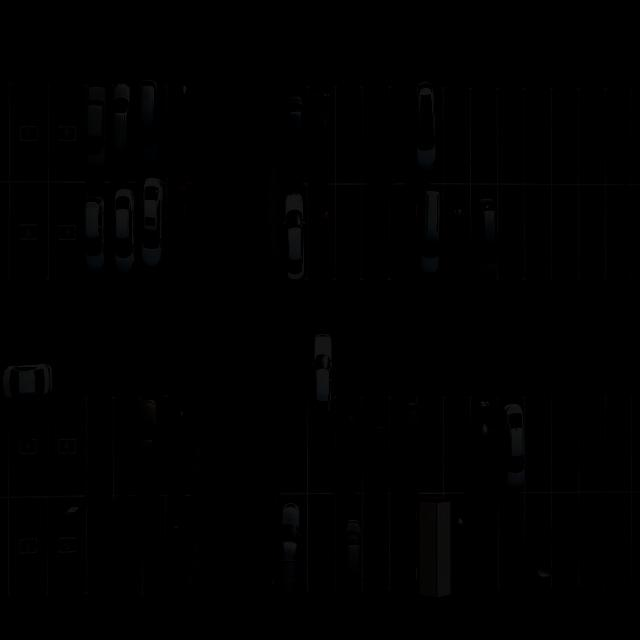empty: (46, 389, 90, 497), (6, 389, 48, 499), (110, 396, 156, 496), (5, 497, 48, 602), (48, 180, 88, 288), (491, 489, 531, 595), (8, 181, 48, 287), (7, 80, 47, 184), (304, 494, 342, 601), (545, 492, 584, 593), (412, 495, 449, 601), (48, 83, 86, 183), (571, 492, 608, 592), (603, 492, 639, 593), (357, 496, 392, 598), (81, 497, 116, 598), (603, 395, 638, 494), (572, 397, 607, 496), (437, 398, 473, 494), (548, 395, 583, 492), (385, 184, 419, 283), (523, 397, 558, 493), (524, 184, 557, 284), (137, 497, 169, 600), (606, 185, 638, 288), (334, 86, 367, 184), (495, 184, 527, 285), (334, 186, 366, 286), (549, 186, 581, 286), (574, 184, 606, 284), (386, 497, 419, 593), (605, 88, 637, 184), (576, 88, 608, 184), (415, 402, 447, 497), (359, 182, 390, 280), (549, 91, 581, 185), (525, 91, 556, 186), (439, 91, 470, 185), (494, 91, 525, 185), (470, 90, 500, 184), (391, 89, 417, 189)
occupied: (430, 496, 473, 604), (46, 494, 89, 597), (466, 491, 506, 598), (275, 492, 311, 600), (164, 182, 203, 281), (332, 489, 368, 596), (389, 400, 428, 498), (165, 496, 201, 602), (468, 185, 504, 288), (361, 84, 398, 184), (523, 489, 559, 591), (358, 396, 395, 494), (492, 398, 530, 493), (466, 398, 504, 493), (111, 497, 145, 600), (306, 185, 340, 287), (111, 181, 144, 285), (307, 396, 341, 496), (78, 180, 110, 286), (413, 182, 446, 284), (82, 395, 115, 497), (164, 396, 198, 495), (332, 396, 366, 494), (439, 182, 471, 286), (134, 398, 167, 498), (136, 181, 168, 284), (411, 90, 445, 186), (165, 83, 198, 181), (133, 83, 164, 182), (308, 89, 339, 186), (282, 182, 310, 288), (83, 85, 111, 183), (282, 89, 310, 186), (112, 85, 139, 182)
